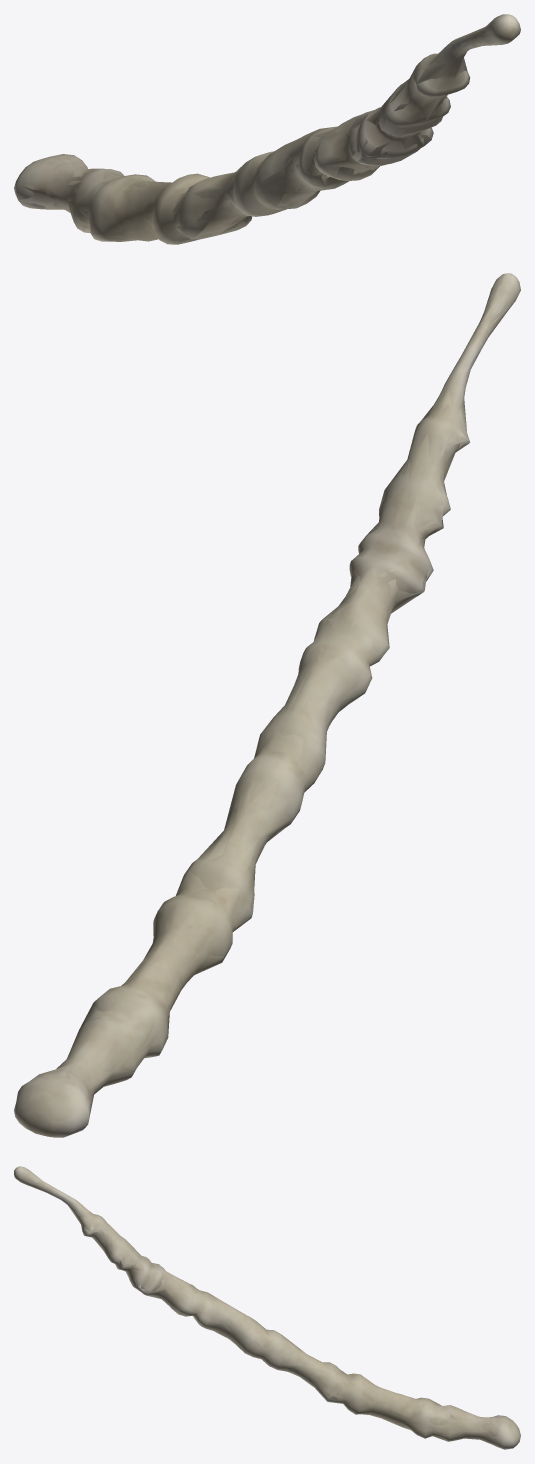
The model's file is Sternum.fbx.
The picture shows the model from 3 angles, top to bottom: view 1: azimuth 30°, elevation 25°; view 2: azimuth 150°, elevation 25°; view 3: azimuth 270°, elevation 25°; orthographic projection. The views are drawn at different scales.
Visible parts, largest first — view 1: Sternum, Sternum high, Sternum low; view 2: Sternum, Sternum low, Sternum high; view 3: Sternum, Sternum low, Sternum high.
Boxes of the visible parts, x1,y1,x2,y2 form: Sternum: [14, 16, 520, 244]; Sternum high: [14, 14, 520, 244]; Sternum low: [19, 22, 498, 243]; Sternum: [15, 273, 520, 1137]; Sternum low: [40, 290, 506, 1122]; Sternum high: [14, 273, 520, 1137]; Sternum: [14, 1167, 519, 1449]; Sternum low: [29, 1174, 502, 1446]; Sternum high: [14, 1166, 520, 1447].
Size of the model in its own units: 0.6434 by 4.42 by 7.27.
Materials: 1 (1 with a texture image).
